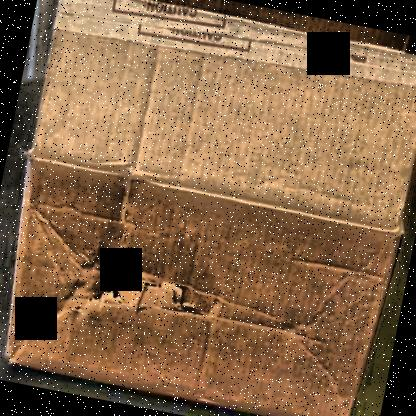defect parcel: (20, 201, 325, 383)
